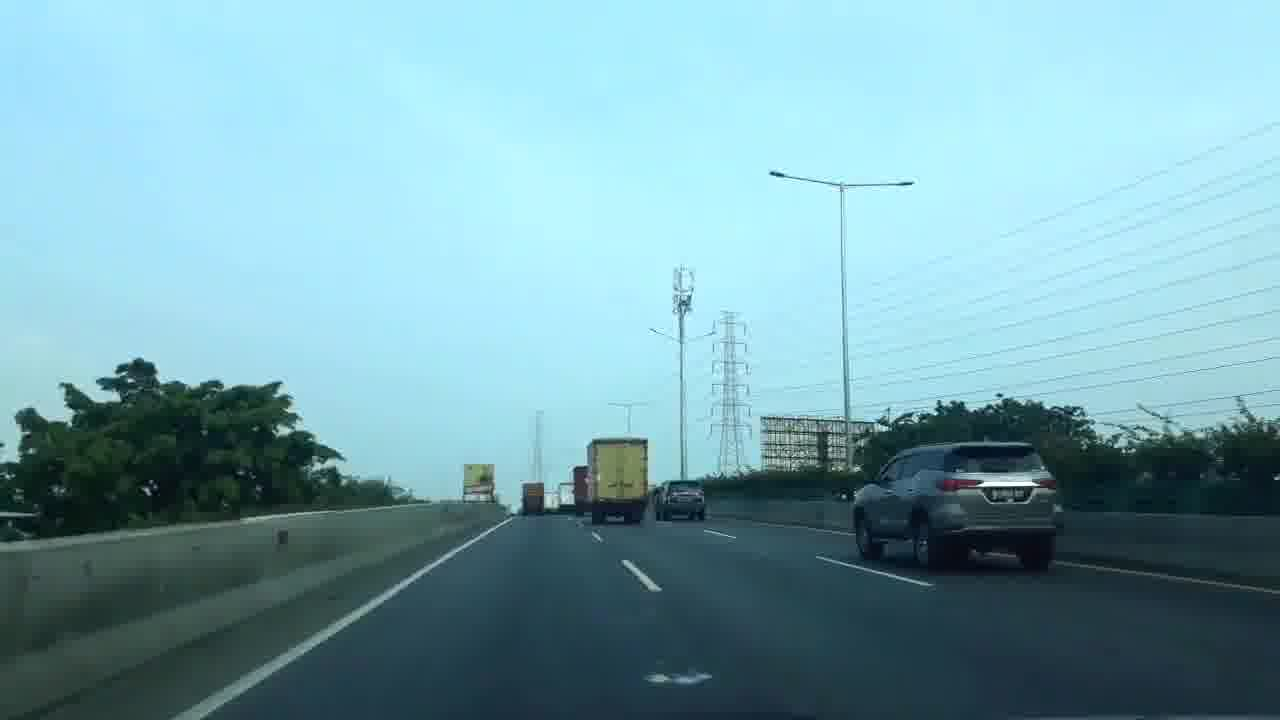plate_positive: (989, 488, 1026, 501)
